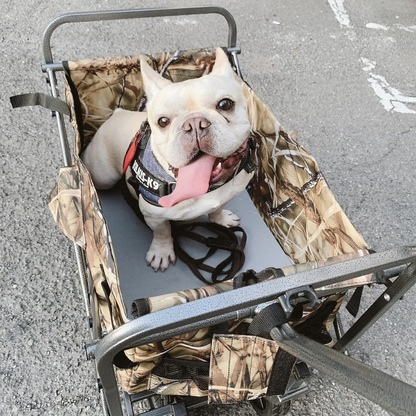bulldog: (84, 43, 256, 274)
